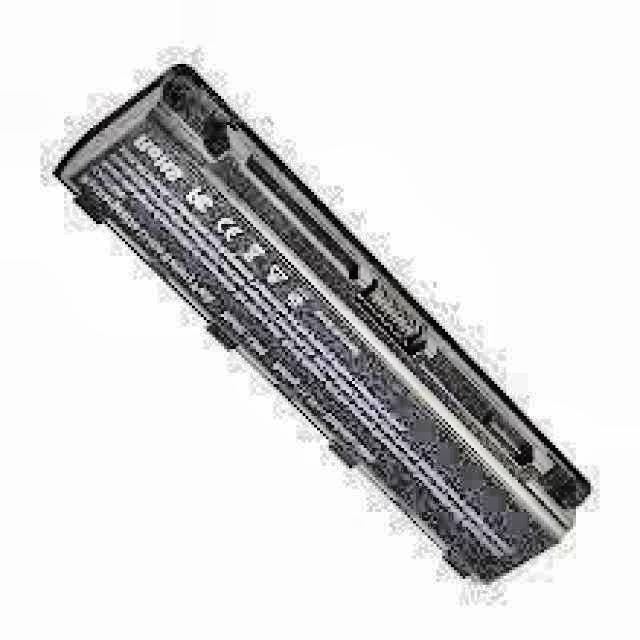battery: (55, 70, 588, 585)
